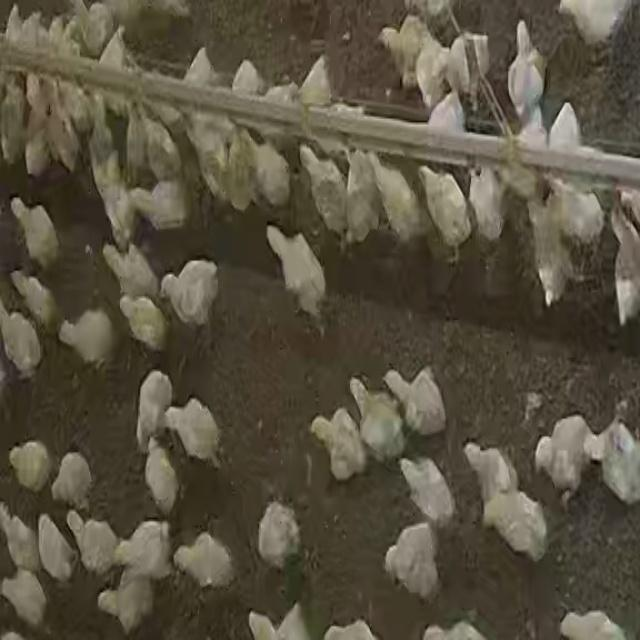chicken: (266, 223, 334, 321), (366, 152, 423, 248), (533, 414, 595, 498), (480, 487, 548, 562), (416, 164, 472, 255), (382, 366, 448, 441), (382, 520, 441, 602), (300, 145, 350, 241), (352, 382, 407, 464), (158, 258, 222, 328), (189, 114, 235, 208), (163, 397, 223, 469), (310, 408, 368, 482), (56, 306, 118, 374), (92, 164, 141, 250), (505, 19, 544, 127), (552, 180, 607, 256), (111, 518, 174, 584), (342, 148, 383, 247), (398, 456, 454, 528), (173, 530, 238, 592), (377, 14, 428, 92), (595, 420, 640, 507), (11, 197, 62, 273), (65, 509, 120, 579), (459, 441, 514, 508), (140, 112, 187, 190), (96, 571, 156, 632), (134, 368, 174, 458), (105, 236, 163, 298), (248, 134, 292, 214), (446, 30, 490, 109), (0, 305, 44, 381), (464, 165, 504, 248), (256, 498, 302, 570), (10, 269, 59, 333), (0, 566, 49, 628), (1, 504, 44, 574), (143, 438, 180, 519), (36, 511, 78, 581), (142, 175, 192, 233), (49, 450, 94, 512), (412, 30, 448, 104), (8, 438, 53, 494), (121, 297, 170, 348), (85, 101, 117, 178), (298, 54, 333, 106)
